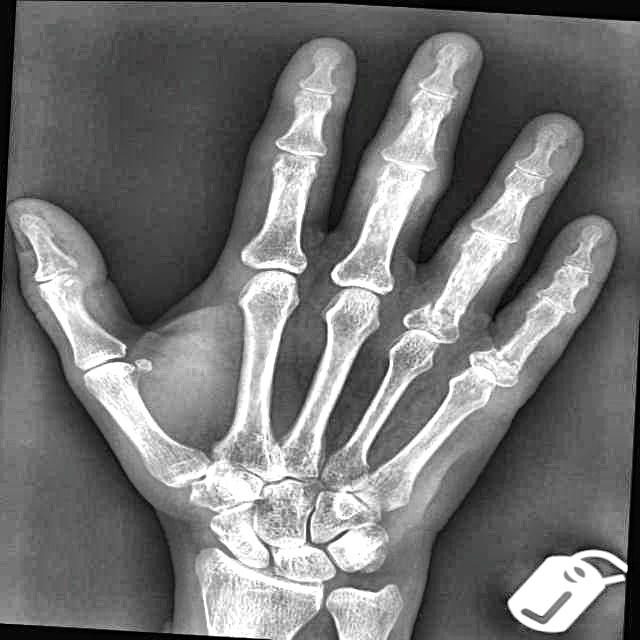Healthy: (18, 26, 582, 600)
